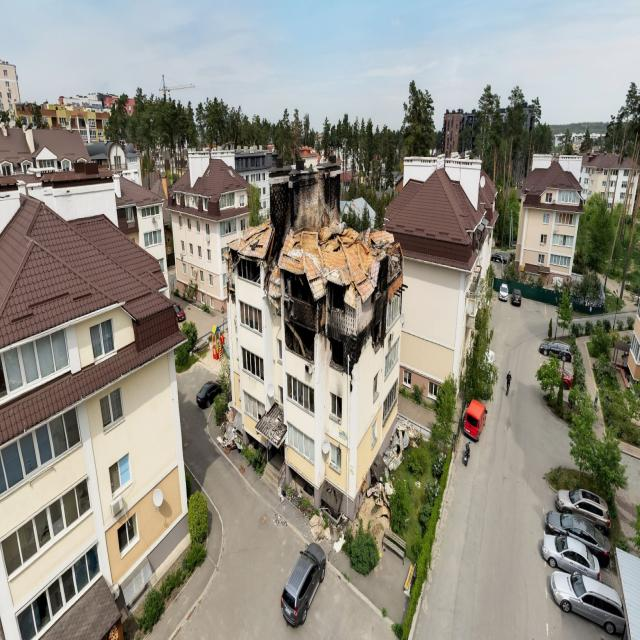broken_window: (383, 379, 397, 425), (331, 393, 342, 420)
building: (225, 244, 404, 524)
damage: (263, 244, 404, 393), (225, 247, 261, 307)
damaged_roof: (223, 155, 399, 302)
other: (10, 244, 640, 640), (17, 0, 623, 256), (392, 0, 640, 619)
roof: (223, 155, 399, 302)
